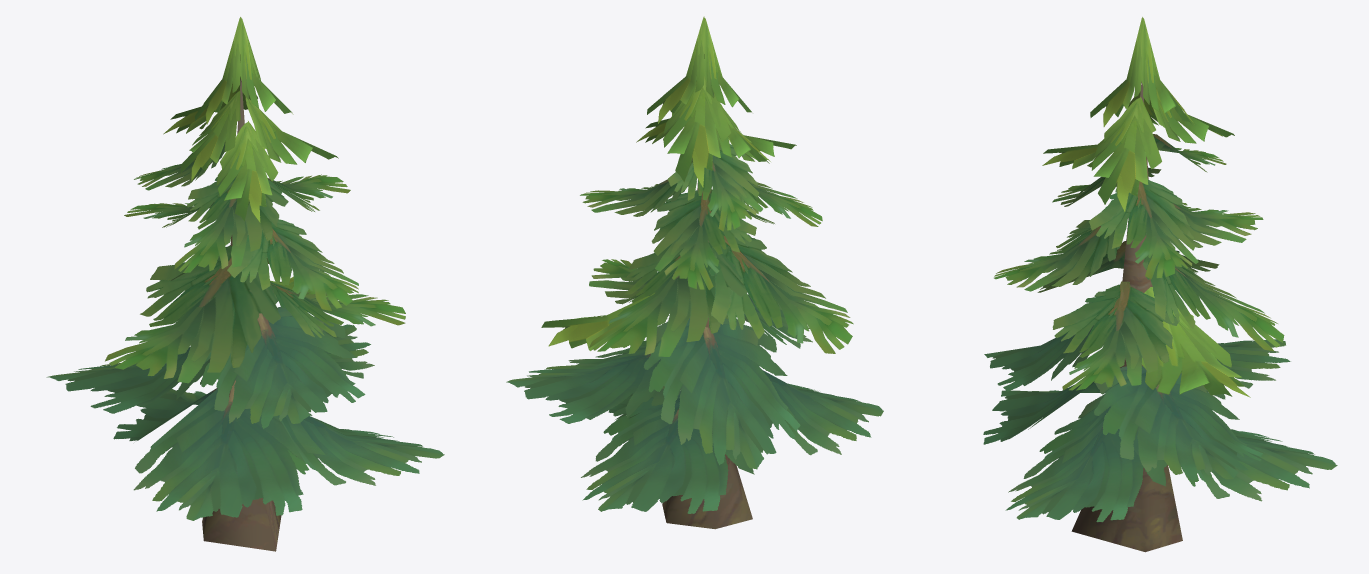
Rendered from main_map_tree_03e.FBX.
The picture shows the model from 3 angles, left to right: view 1: azimuth 30°, elevation 25°; view 2: azimuth 150°, elevation 25°; view 3: azimuth 270°, elevation 25°; orthographic projection. The views are drawn at different scales.
Parts seen in each view (by area): view 1: main_map_tree_03e; view 2: main_map_tree_03e; view 3: main_map_tree_03e.
Boxes of the visible parts, x1,y1,x2,y2 form: main_map_tree_03e: (46,17,444,551); main_map_tree_03e: (506,16,883,529); main_map_tree_03e: (983,17,1337,552).
Bounding box in the file's own units: 184 × 241 × 176.
